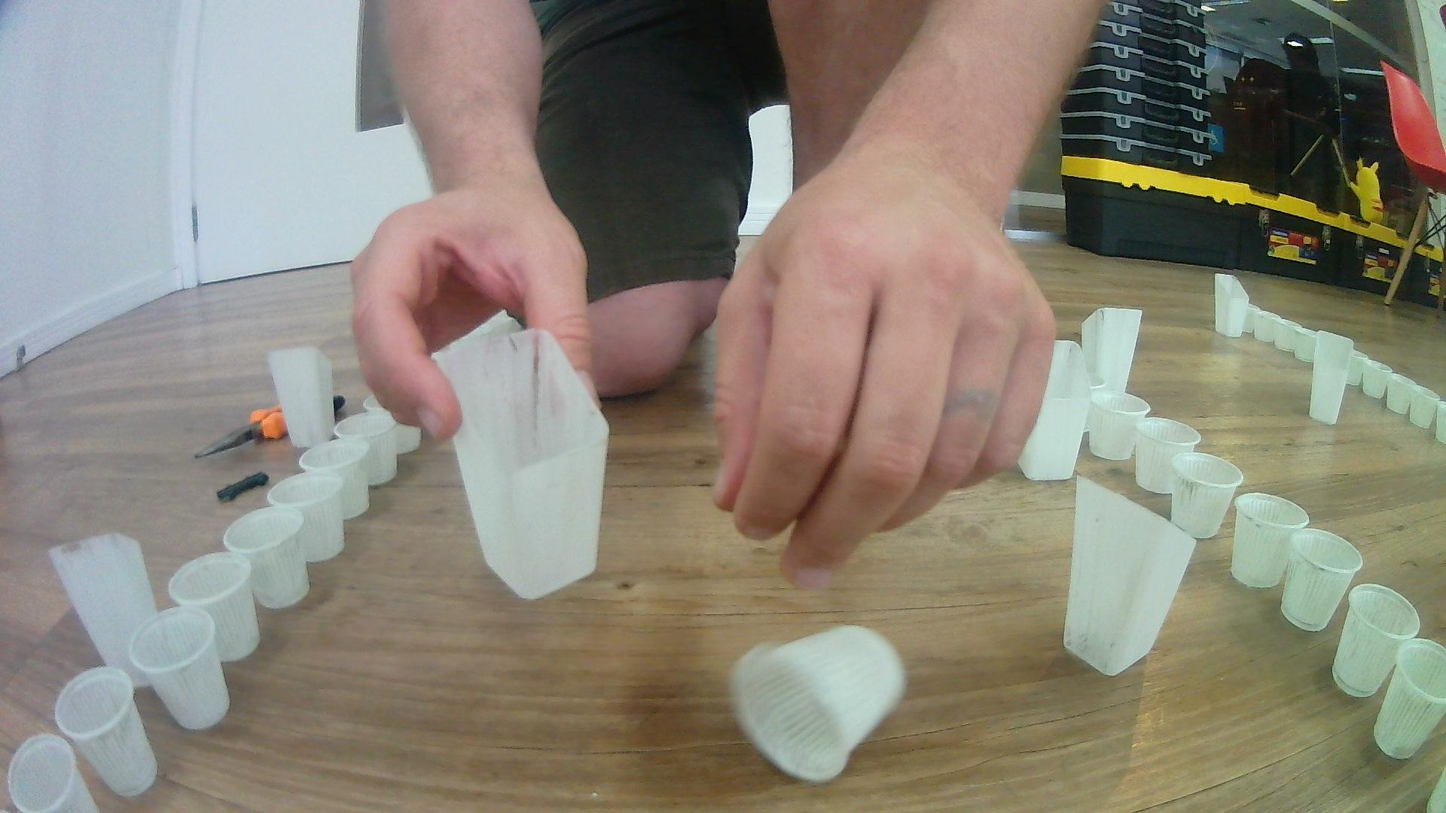erva_daninha: (430, 324, 611, 601), (1061, 471, 1197, 678), (46, 529, 163, 690), (1018, 338, 1092, 483), (267, 345, 337, 449), (1080, 305, 1143, 397), (1307, 330, 1356, 425), (1213, 273, 1249, 339)
planta: (726, 623, 910, 783), (54, 665, 159, 798), (127, 606, 230, 732), (1331, 583, 1421, 699), (168, 552, 261, 662), (222, 508, 311, 609), (1373, 638, 1446, 760), (1280, 528, 1363, 632), (1231, 492, 1310, 589), (7, 735, 102, 813), (267, 473, 345, 563), (1169, 450, 1244, 540), (299, 439, 370, 522), (1133, 417, 1203, 495), (1088, 389, 1152, 461), (336, 413, 398, 486), (362, 394, 423, 455), (1385, 373, 1419, 415), (1409, 387, 1441, 428), (1243, 304, 1276, 342), (1362, 360, 1394, 398), (1271, 317, 1301, 352), (1294, 327, 1319, 362), (1347, 350, 1371, 386), (1084, 370, 1105, 396), (1435, 400, 1446, 444)
